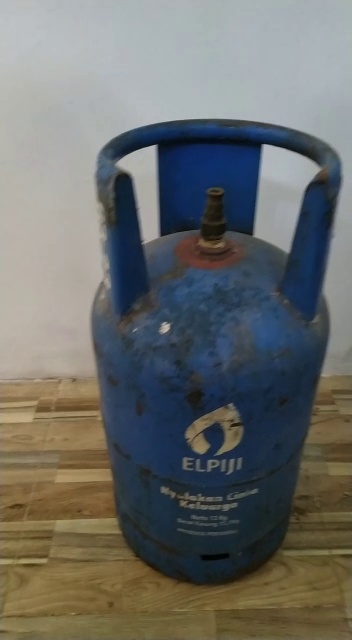blue_gas: (92, 118, 341, 588)
